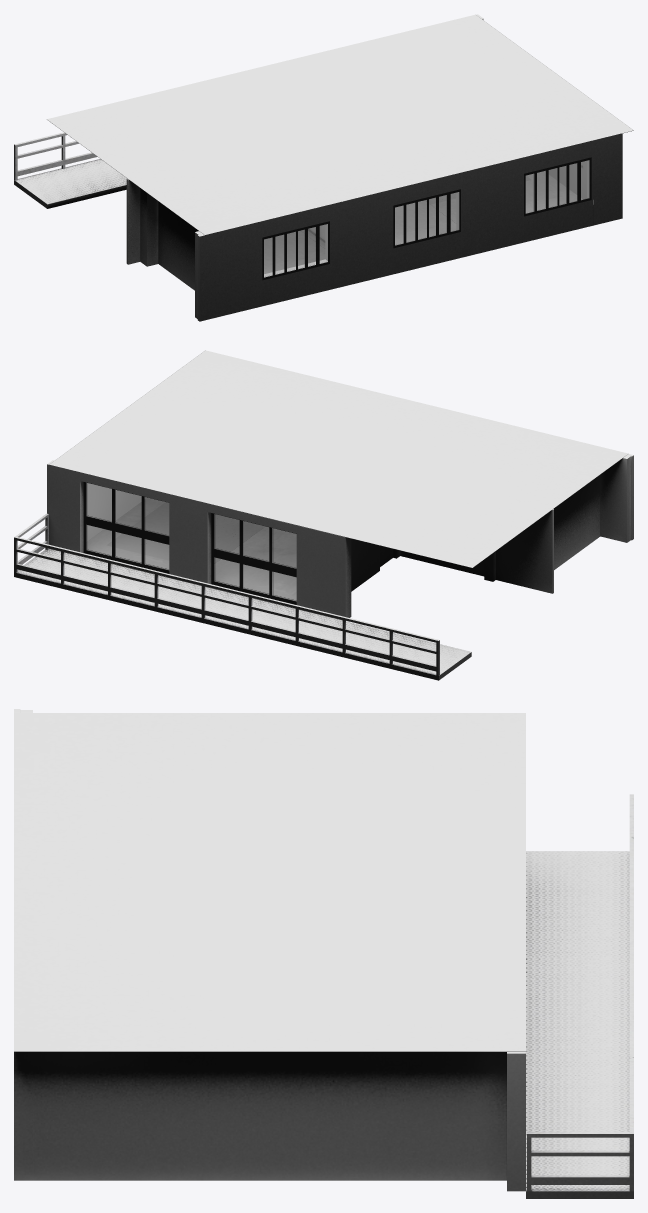
Rendered from Lab_v1.glb.
3 views of the same model, one above another, from view 1: azimuth 30°, elevation 25°; view 2: azimuth 150°, elevation 25°; view 3: azimuth 270°, elevation 25° (orthographic). The views are drawn at different scales.
Visible parts, largest first — view 1: roof0, wall, floor00, est_pav, w1, w3, w2, pw1, estpar, pw2, pw3; view 2: roof0, wall, est_pav, floor00, estpar, pfin1w, pfin2w, pfin1, pfin2; view 3: roof0, wall, est_pav, estpar.
Boxes of the visible parts, <box> form: roof0: <box>47,14,633,235</box>; wall: <box>126,14,622,321</box>; floor00: <box>264,171,582,273</box>; est_pav: <box>14,159,126,208</box>; w1: <box>525,160,589,213</box>; w3: <box>264,224,327,277</box>; w2: <box>395,192,458,245</box>; pw1: <box>524,157,591,216</box>; estpar: <box>14,132,97,180</box>; pw2: <box>393,189,460,248</box>; pw3: <box>262,221,329,280</box>; roof0: <box>49,350,628,567</box>; wall: <box>47,454,633,620</box>; est_pav: <box>14,549,471,680</box>; floor00: <box>80,497,296,608</box>; estpar: <box>14,513,439,675</box>; pfin1w: <box>214,514,296,600</box>; pfin2w: <box>87,483,169,569</box>; pfin1: <box>211,513,296,604</box>; pfin2: <box>83,482,169,573</box>; roof0: <box>14,713,525,1051</box>; wall: <box>14,709,525,1191</box>; est_pav: <box>526,851,633,1198</box>; estpar: <box>527,794,633,1191</box>.
Size of what is drawn, in the model's own units: 19.35 by 3.81 by 14.71.
96 materials, 94 textured.
